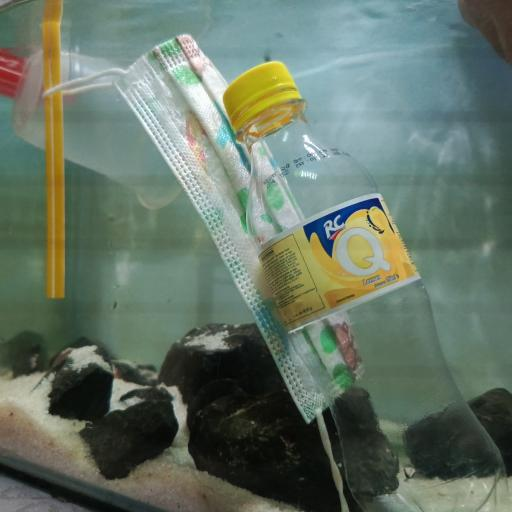bottle_cap: (221, 63, 294, 112)
mask: (123, 28, 366, 420)
plastic_bottle: (221, 61, 512, 512)
plastic_cup: (22, 42, 198, 206)
plastic_straw: (44, 2, 62, 300), (2, 54, 25, 102)
